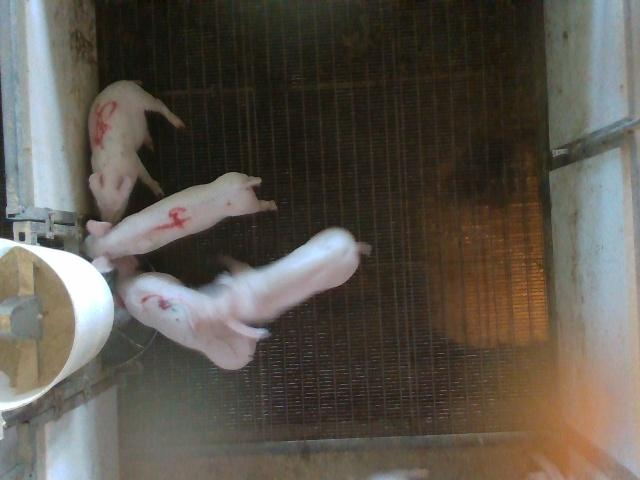pig-3: (119, 272, 256, 369)
pig-4: (85, 172, 276, 272)
pig-5: (89, 80, 184, 224)
